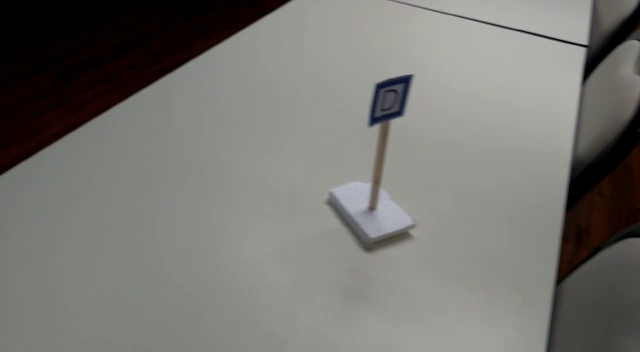durak: (369, 73, 413, 124)
